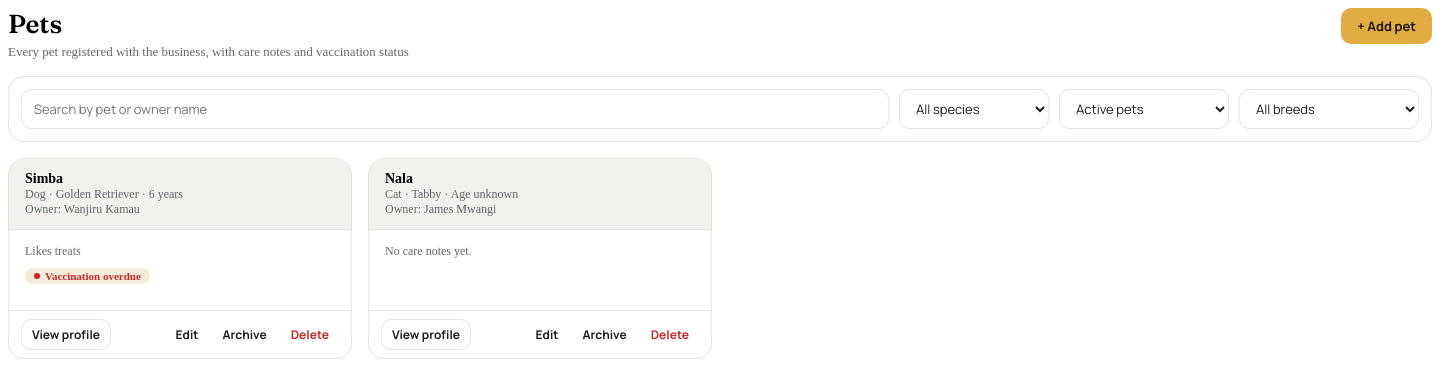
PetsPage › filters by pet or owner name and by species
Expected: the text "Simba" is shown, [25,171,63,186]
Step 1. Type "james" into the field named "Search pets by pet or owner name" → (455, 109), box [21,89,889,129]
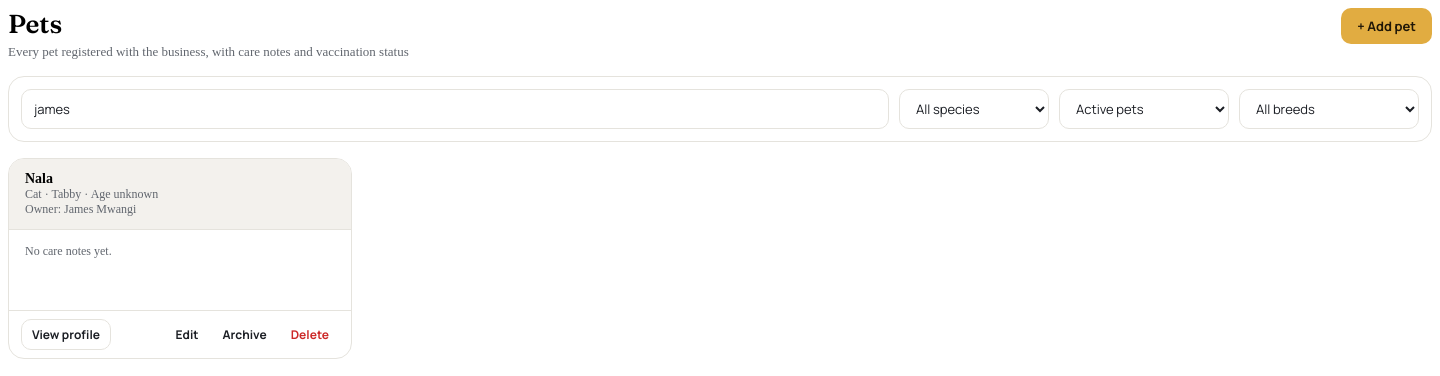
Expected: the text "Nala" is shown, [25,171,53,186]
Expected: the text "Simba" is gone
Step 2. Clear the field named "Search pets by pet or owner name" → (455, 109), box [21,89,889,129]
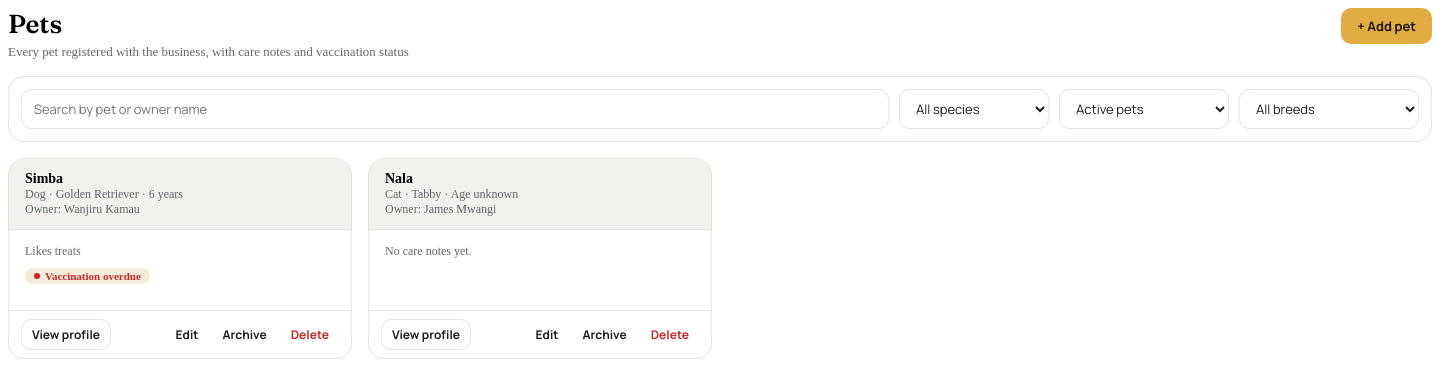
Step 3. Select "Dog" in the dropdown named "Filter by species" → (974, 109), box [899,89,1049,129]
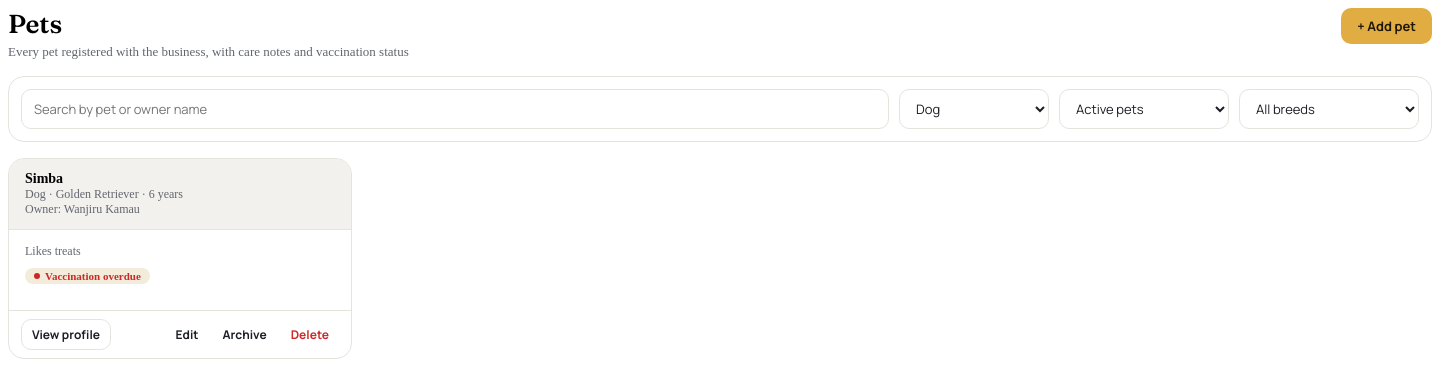
Expected: the text "Nala" is gone
Step 4. Type "zzz" into the field named "Search pets by pet or owner name" → (455, 109), box [21,89,889,129]
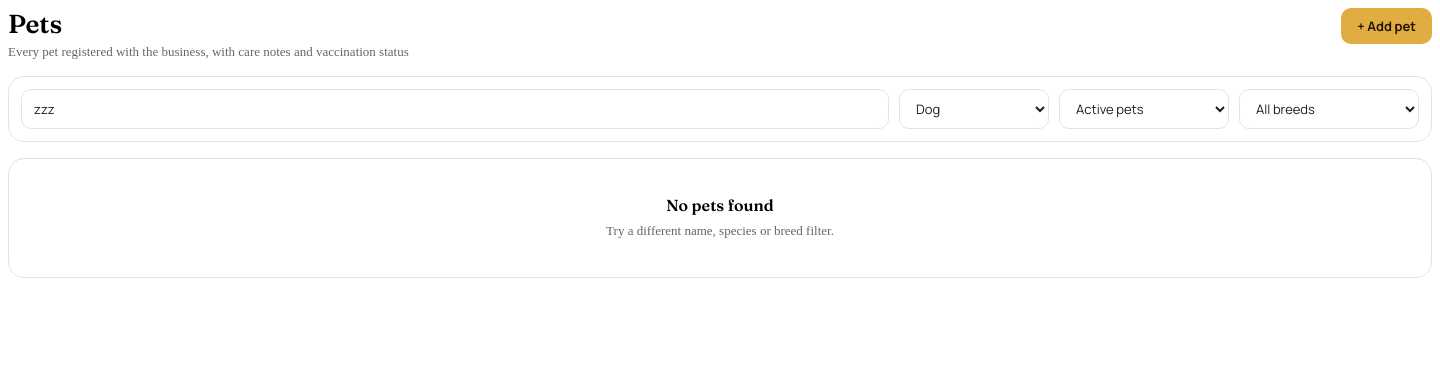
Expected: the text "No pets found" is shown, [666,195,774,215]
